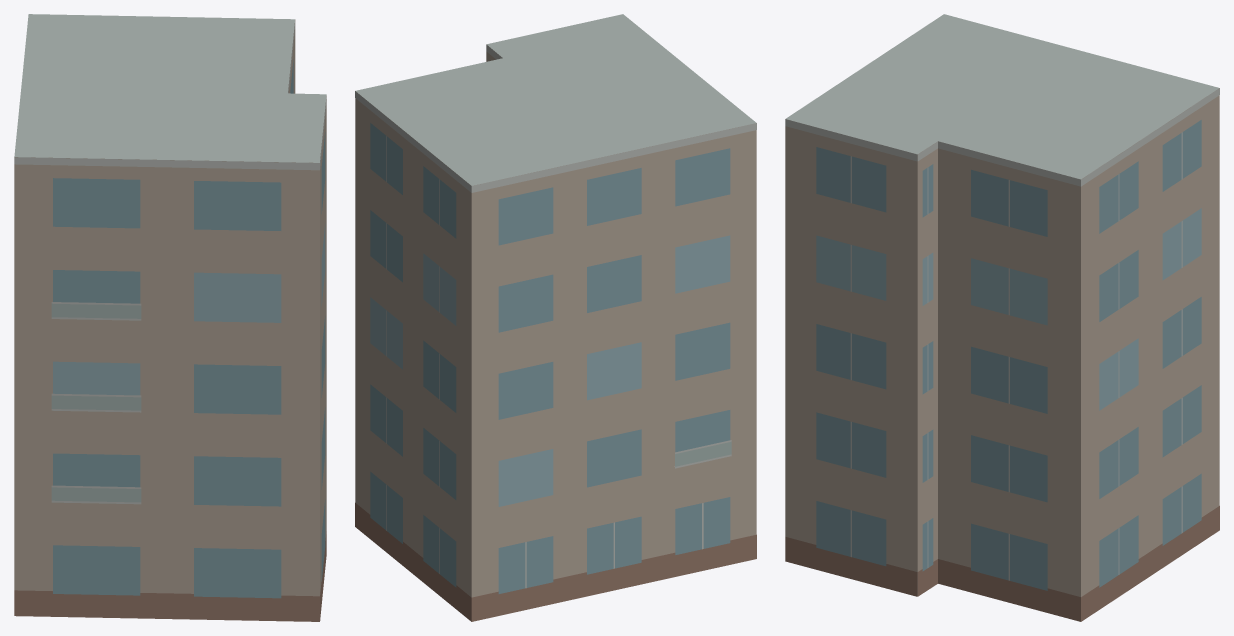
The model's file is survey-upis-33009980.glb.
3 views of the same model, side by side, from view 1: azimuth 30°, elevation 25°; view 2: azimuth 150°, elevation 25°; view 3: azimuth 270°, elevation 25° (orthographic). The views are drawn at different scales.
Visible parts, largest first — view 1: survey-upis-33009980.tmp; view 2: survey-upis-33009980.tmp; view 3: survey-upis-33009980.tmp.
Boxes of the visible parts, bbox=[...] form: survey-upis-33009980.tmp: bbox=[14, 14, 326, 621]; survey-upis-33009980.tmp: bbox=[355, 14, 756, 621]; survey-upis-33009980.tmp: bbox=[785, 14, 1219, 621].
Size of the model in its own units: 12.12 by 15.1 by 13.45.
